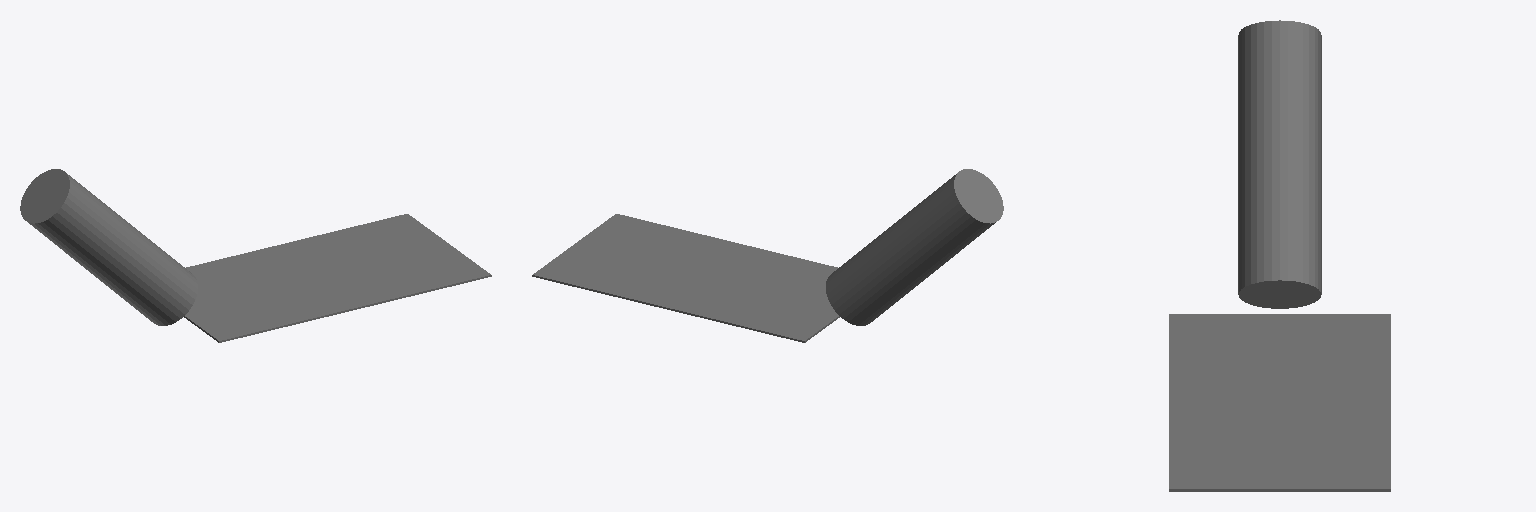
robot.urdf — spatula:
<robot name="spatula">
  <!-- links -->
  <link name="pad">
    <inertial>
      <origin xyz="0 0 0" rpy="0 0 0"/>
      <mass value="0.05"/>
      <inertia ixx="1.04e-5"  ixy="0"  ixz="0" iyy="9.38e-5" iyz="0" izz="1.04e-4" />
    </inertial>
    <visual>
      <origin xyz="0 0 0" rpy="0 0 0" />
      <geometry>
        <!-- <mesh filename="pad.obj"/> -->
        <box size="0.15 0.08 0.001" />
      </geometry>
      <material name="grey">
        <color rgba="0.5 0.5 0.5 1.0"/>
      </material>
    </visual>
    <collision>
      <origin xyz="0 0 0" rpy="0 0 0"/>
      <geometry>
        <!-- <mesh filename="pad.obj"/> -->
        <box size="0.15 0.08 0.001" />
      </geometry>
      <!-- <drake:proximity_properties>
        <drake:compliant_hydroelastic/>
        <drake:mesh_resolution_hint value="0.002"/>
        <drake:hydroelastic_modulus value="1e5"/>
        <drake:hunt_crossley_dissipation value="2"/>
      </drake:proximity_properties> -->
    </collision>
  </link>
  <link name="handle">
    <inertial>
      <origin xyz="0.06 0 0.0" rpy="0 1.571 0"/>
      <!-- <origin xyz="0 0 0" rpy="0 0 0"/> -->
      <mass value="0.05"/>
      <inertia ixx="4.45e-5"  ixy="0"  ixz="0" iyy="4.45e-5" iyz="0" izz="5.63e-6" />
    </inertial>
    <visual>
      <origin xyz="0.06 0 0.0" rpy="0 1.571 0"/>
      <!-- <origin xyz="0 0 0" rpy="0 0 0"/> -->
      <geometry>
        <cylinder length="0.10" radius="0.015"/>
      </geometry>
      <material name="grey">
        <color rgba="0.5 0.5 0.5 1.0"/>
      </material>
    </visual>
    <collision>
      <origin xyz="0.06 0 0.0" rpy="0 1.571 0"/>
      <!-- <origin xyz="0 0 0" rpy="0 0 0"/> -->
      <geometry>
        <!-- <mesh filename="handle.obj"/> -->
        <cylinder length="0.10" radius="0.015"/>
      </geometry>
      <!-- <drake:proximity_properties>
        <drake:compliant_hydroelastic/>
        <drake:mesh_resolution_hint value="0.002"/>
        <drake:hydroelastic_modulus value="1e5"/>
        <drake:hunt_crossley_dissipation value="2"/>
      </drake:proximity_properties> -->
    </collision>
  </link>

  <!-- joints - always x pointing forward to the next link, y to the left, z upward-->
  <joint name="joint" type="fixed">
    <origin rpy="3.142 -2.357 0" xyz="-0.07 0 0"/>
    <!-- <origin rpy="0 -0.785 0" xyz="-0.10 0 0.05"/> -->
    <parent link="pad" />
    <child link="handle" />
    <axis xyz="0 0 0" />
  </joint>
</robot>

--- Render facts (derived) ---
The picture shows the robot from 3 angles, left to right: view 1: azimuth 30°, elevation 25°; view 2: azimuth 150°, elevation 25°; view 3: azimuth 270°, elevation 25°; orthographic projection.
Model spatula with 2 links and 1 joints (1 fixed), rooted at pad, posed every joint at zero.
Links seen in each view (by area): view 1: pad, handle; view 2: pad, handle; view 3: pad, handle.
Link boxes in pixels (<box>): pad: <box>184,214,491,342</box>; handle: <box>20,169,197,325</box>; pad: <box>532,214,839,342</box>; handle: <box>826,169,1003,325</box>; pad: <box>1169,314,1390,491</box>; handle: <box>1238,20,1321,308</box>.
Size in the robot's own frame: 0.2334 by 0.08 by 0.0919 metres.
Geometry: primitives only (box / cylinder / sphere), no mesh files.
